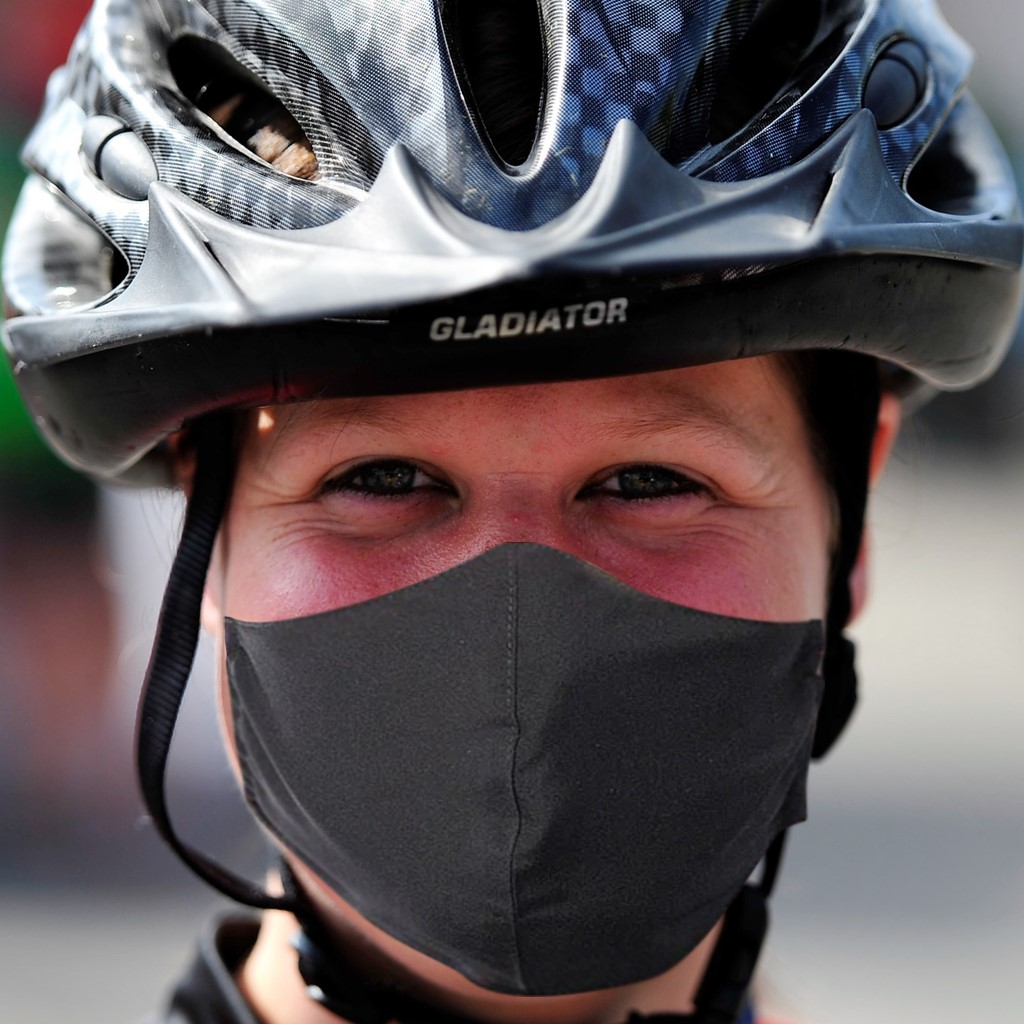con_mascara: (226, 241, 837, 993)
